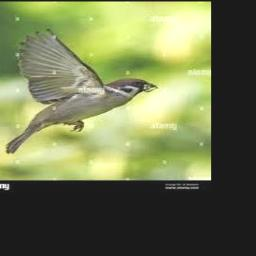Sparrow: (6, 29, 157, 153)
